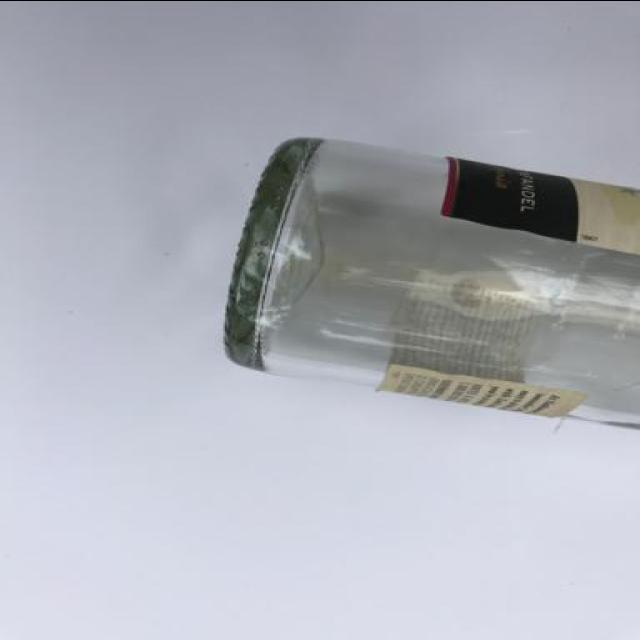glass: (218, 136, 640, 428)
